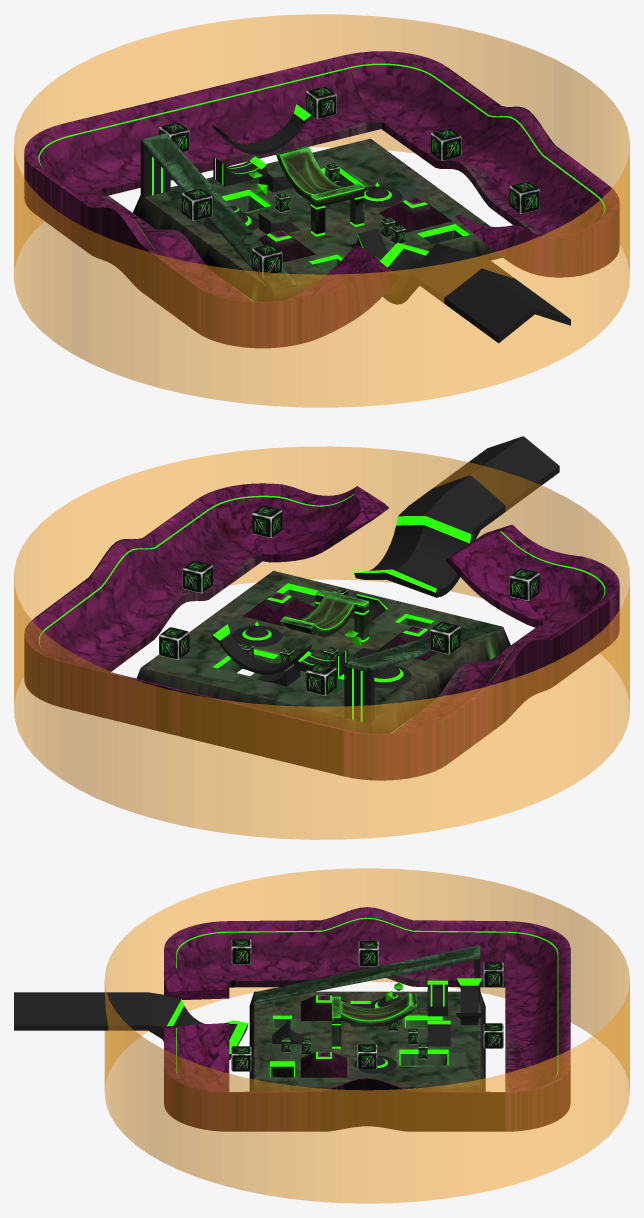
The model's file is Level4.glb.
3 views of the same model, one above another, from view 1: azimuth 30°, elevation 25°; view 2: azimuth 150°, elevation 25°; view 3: azimuth 270°, elevation 25° (orthographic). The views are drawn at different scales.
Visible parts, largest first — view 1: Visual_Cylinder.002, Col_Cube_coll.049, Col_Cube_coll.026, Col_Cube_coll.005, Col_Cube_coll.051, Col_Cube_coll.045, Col_Cube_coll.007, Col_Cube_coll.009, Col_Cube_coll.022, Col_Cube_coll.004, Col_Cube_coll.056, Col_Cube_coll.002 (+9 smaller); view 2: Visual_Cylinder.002, Col_Cube_coll.005, Col_Cube_coll.026, Col_Cube_coll.049, Col_Cube_coll.045, Col_Cube_coll.051, Col_Cube_coll.007, Col_Cube_coll.022, Col_Cube_coll.004, Col_Cube_coll.009, Col_Cube_coll.002, Col_Cube_coll.056 (+9 smaller); view 3: Visual_Cylinder.002, Col_Cube_coll.051, Col_Cube_coll.005, Col_Cube_coll.026, Col_Cube_coll.049, Col_Cube_coll.045, Col_Cube_coll.007, Col_Cube_coll.009, Col_Cube_coll.022, Col_Cube_coll.004, Col_Cube_coll.056, Col_Cube_coll.012 (+7 smaller).
Boxes of the visible parts, x1=… form: Visual_Cylinder.002: x1=14, y1=14, x2=629, y2=407; Col_Cube_coll.049: x1=24, y1=55, x2=381, y2=212; Col_Cube_coll.026: x1=343, y1=51, x2=608, y2=236; Col_Cube_coll.005: x1=133, y1=138, x2=502, y2=301; Col_Cube_coll.051: x1=34, y1=168, x2=300, y2=348; Col_Cube_coll.045: x1=287, y1=186, x2=619, y2=343; Col_Cube_coll.007: x1=379, y1=242, x2=570, y2=343; Col_Cube_coll.009: x1=140, y1=133, x2=297, y2=290; Col_Cube_coll.022: x1=276, y1=146, x2=364, y2=236; Col_Cube_coll.004: x1=258, y1=197, x2=451, y2=262; Col_Cube_coll.056: x1=212, y1=104, x2=311, y2=154; Col_Cube_coll.002: x1=140, y1=144, x2=170, y2=197; Visual_Cylinder.002: x1=14, y1=446, x2=629, y2=839; Col_Cube_coll.005: x1=136, y1=570, x2=510, y2=733; Col_Cube_coll.026: x1=24, y1=499, x2=262, y2=707; Col_Cube_coll.049: x1=62, y1=661, x2=447, y2=780; Col_Cube_coll.045: x1=197, y1=483, x2=580, y2=627; Col_Cube_coll.051: x1=391, y1=556, x2=619, y2=763; Col_Cube_coll.007: x1=354, y1=436, x2=559, y2=597; Col_Cube_coll.022: x1=280, y1=589, x2=368, y2=642; Col_Cube_coll.004: x1=243, y1=592, x2=436, y2=660; Col_Cube_coll.009: x1=344, y1=621, x2=501, y2=672; Col_Cube_coll.002: x1=344, y1=666, x2=374, y2=723; Col_Cube_coll.056: x1=212, y1=624, x2=311, y2=674; Visual_Cylinder.002: x1=104, y1=868, x2=629, y2=1203; Col_Cube_coll.051: x1=164, y1=907, x2=505, y2=987; Col_Cube_coll.005: x1=249, y1=991, x2=485, y2=1091; Col_Cube_coll.026: x1=229, y1=1065, x2=570, y2=1131; Col_Cube_coll.049: x1=505, y1=921, x2=570, y2=1103; Col_Cube_coll.045: x1=164, y1=949, x2=229, y2=1131; Col_Cube_coll.007: x1=14, y1=992, x2=248, y2=1059; Col_Cube_coll.009: x1=254, y1=945, x2=480, y2=1002; Col_Cube_coll.022: x1=332, y1=993, x2=416, y2=1048; Col_Cube_coll.004: x1=301, y1=995, x2=346, y2=1077; Col_Cube_coll.056: x1=456, y1=978, x2=482, y2=1025; Col_Cube_coll.012: x1=427, y1=980, x2=447, y2=1016.
Bounding box in the file's own units: 116 × 27.66 × 136.
Materials: 5 (2 with a texture image).
